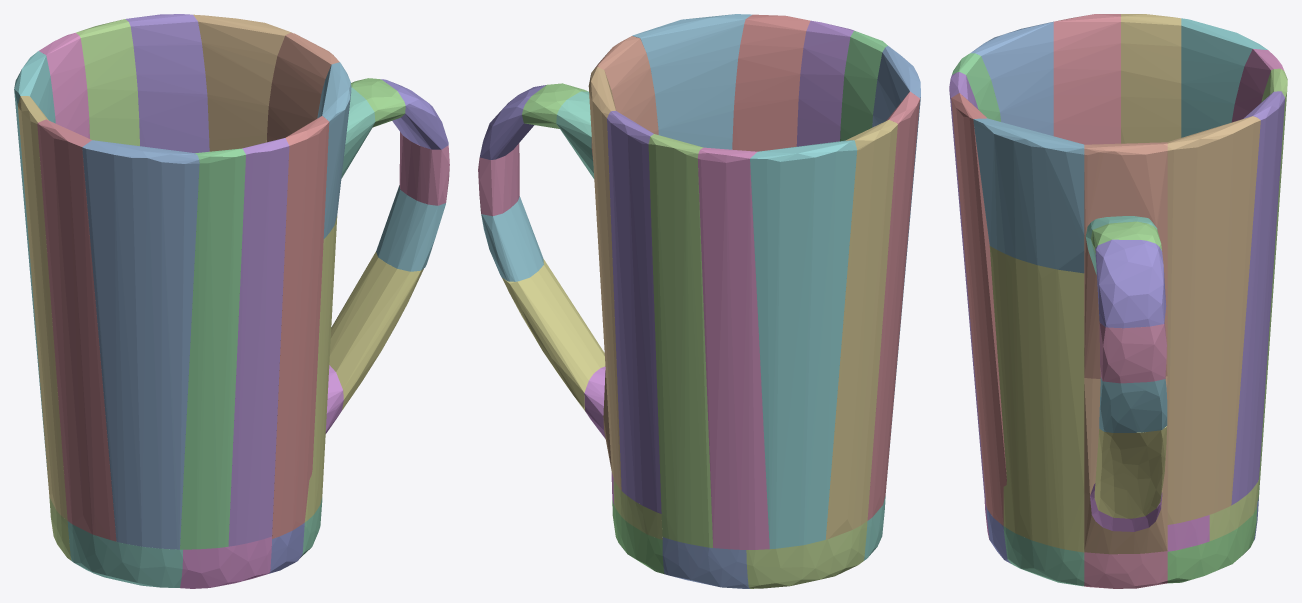
Rendered from ace_coffee_mug_kristen_16_oz_cup_hulls.glb.
3 views of the same model, side by side, from view 1: azimuth 30°, elevation 25°; view 2: azimuth 150°, elevation 25°; view 3: azimuth 270°, elevation 25° (orthographic).
Visible parts, largest first — view 1: geometry_0; view 2: geometry_0; view 3: geometry_0.
Boxes of the visible parts, bbox=[...] form: geometry_0: bbox=[14, 14, 449, 588]; geometry_0: bbox=[478, 14, 920, 588]; geometry_0: bbox=[949, 14, 1287, 588].
Bounding box in the file's own units: 0.1264 × 0.135 × 0.0906.
